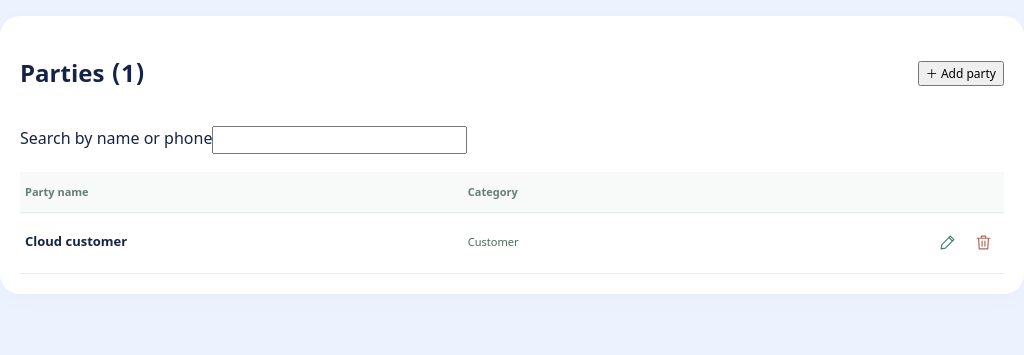
it: keeps the party visible and reports a rejected historical-party deletion
Click the button named "Delete: Cloud customer" at (983, 243), box [967,225,999,261]
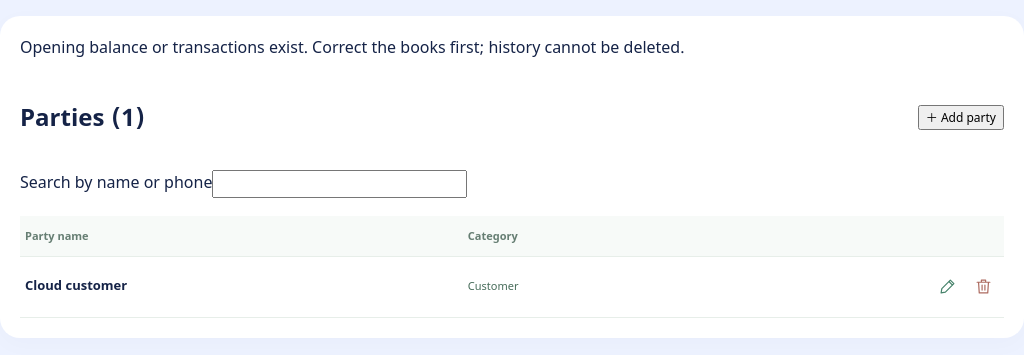
Expected: the text "Cloud customer" is shown, [25,278,127,295]
Result: the message is shown at [20,38,684,60]
